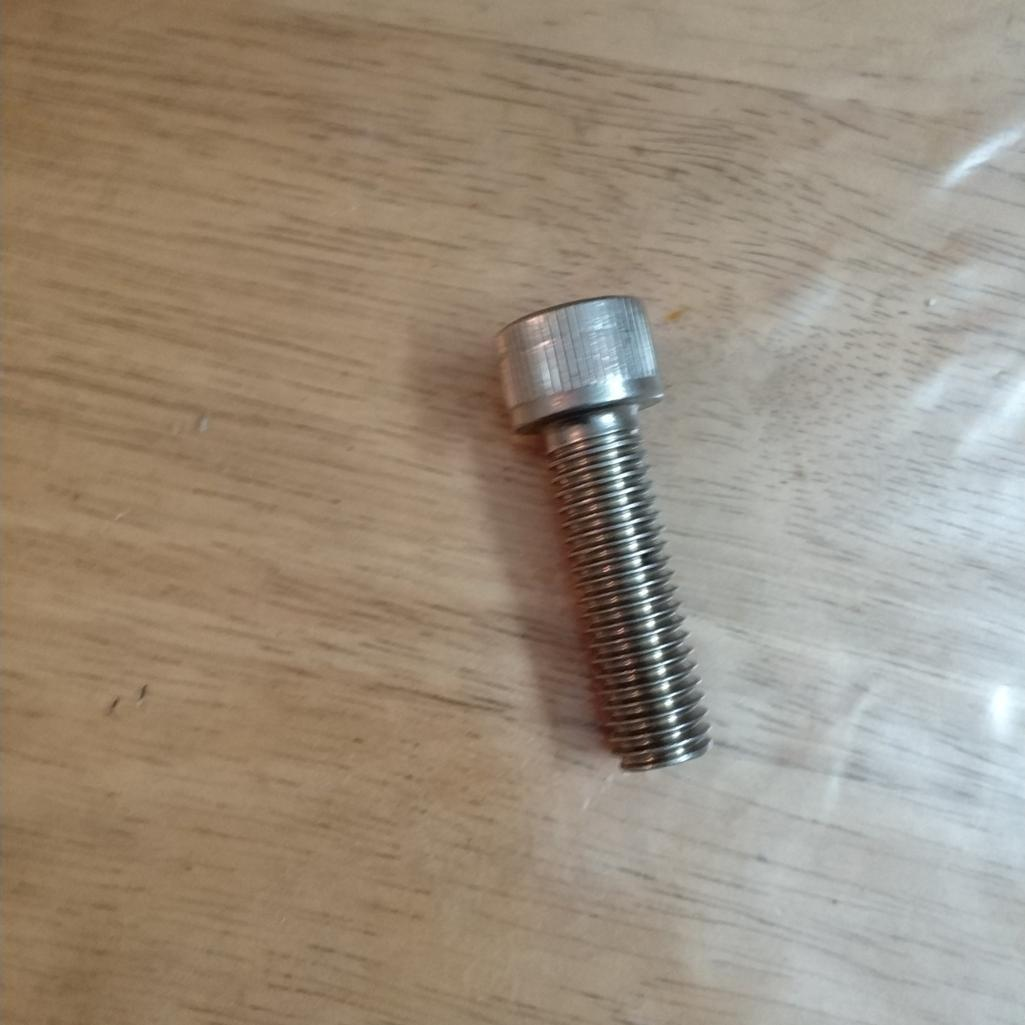screwtype1silver: (467, 274, 737, 780)
